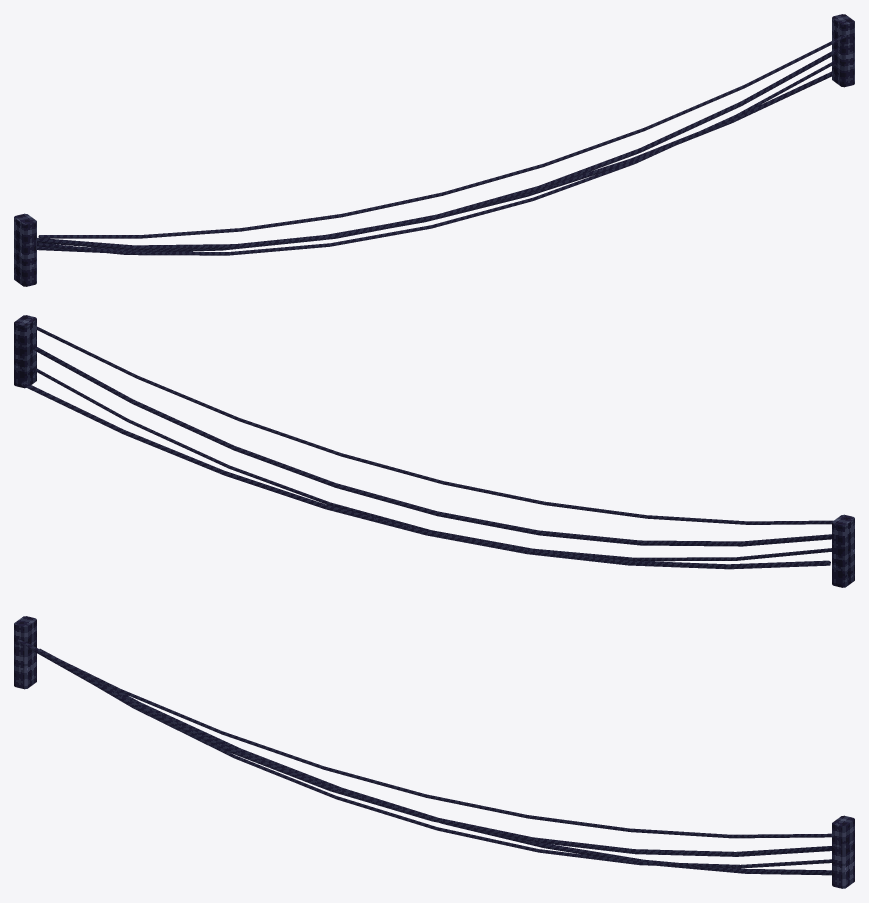
Rendered from cytech.cables.glb.
The picture shows the model from 3 angles, top to bottom: view 1: azimuth 30°, elevation 25°; view 2: azimuth 150°, elevation 25°; view 3: azimuth 330°, elevation 25°; orthographic projection.
Visible parts, largest first — view 1: kit_cables; view 2: kit_cables; view 3: kit_cables.
Boxes of the visible parts, bbox=[...] form: kit_cables: bbox=[14, 14, 854, 286]; kit_cables: bbox=[14, 315, 854, 587]; kit_cables: bbox=[14, 616, 854, 888].
Bounding box in the file's own units: 12.3 × 1.57 × 0.6.
Materials: 2 (2 with a texture image).
